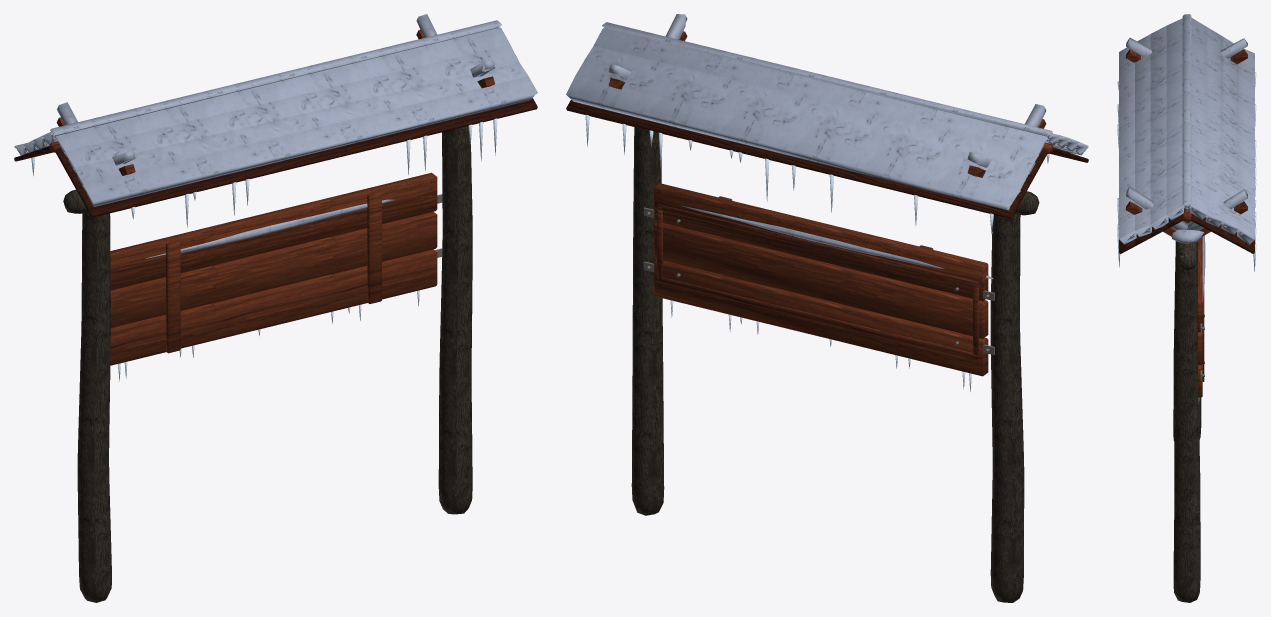
Rendered from lodge_sign.glb.
3 views of the same model, side by side, from view 1: azimuth 30°, elevation 25°; view 2: azimuth 150°, elevation 25°; view 3: azimuth 270°, elevation 25° (orthographic). The views are drawn at different scales.
Parts seen in each view (by area): view 1: LodgeSign; view 2: LodgeSign; view 3: LodgeSign.
Part boxes in pixels (x1,y1,x2,y2): LodgeSign: (14,14,537,602); LodgeSign: (566,14,1088,602); LodgeSign: (1117,14,1256,602).
Size of the model in its own units: 3.12 by 3.2 by 0.9666.
Materials: 6 (4 with a texture image).
